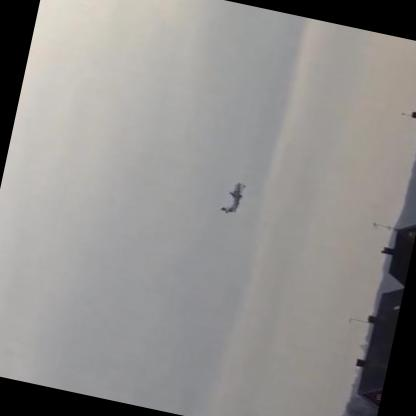plane: (220, 179, 250, 215)
